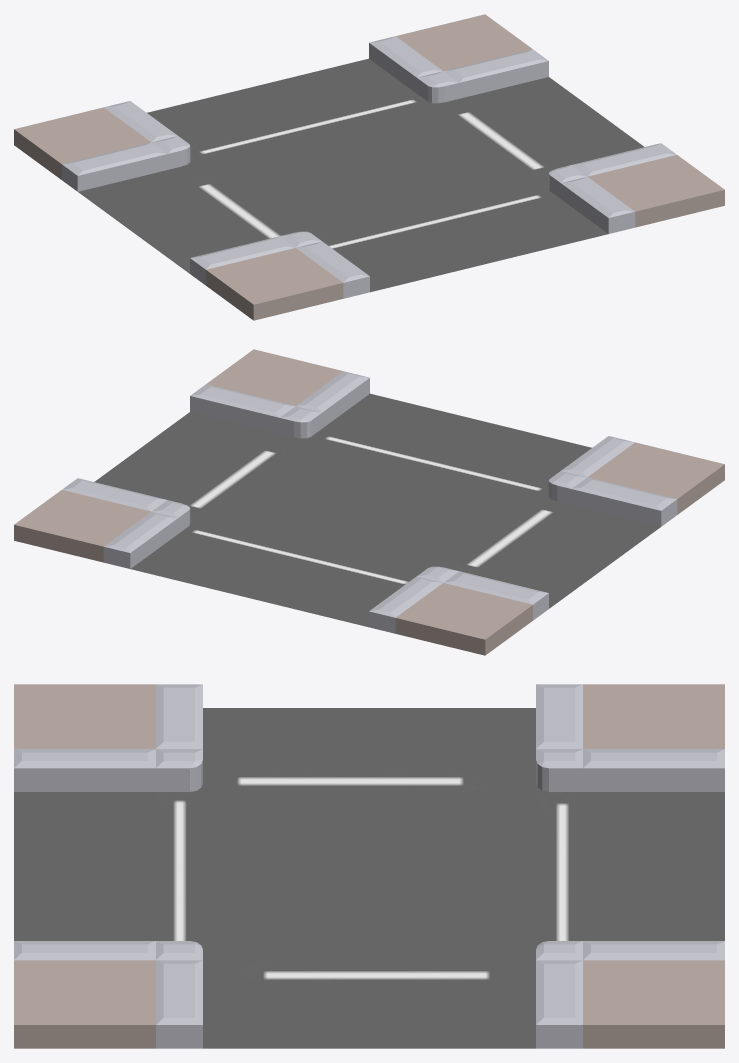
File: Road2.fbx
3 renders of one model, top to bottom at view 1: azimuth 30°, elevation 25°; view 2: azimuth 150°, elevation 25°; view 3: azimuth 270°, elevation 25°, orthographic. The views are drawn at different scales.
Parts seen in each view (by area): view 1: Plane.001; view 2: Plane.001; view 3: Plane.001.
Boxes of the visible parts, bbox=[...] form: Plane.001: bbox=[14, 14, 724, 320]; Plane.001: bbox=[14, 349, 724, 655]; Plane.001: bbox=[14, 684, 724, 1048].
Bounding box in the file's own units: 287 × 10.09 × 253.
